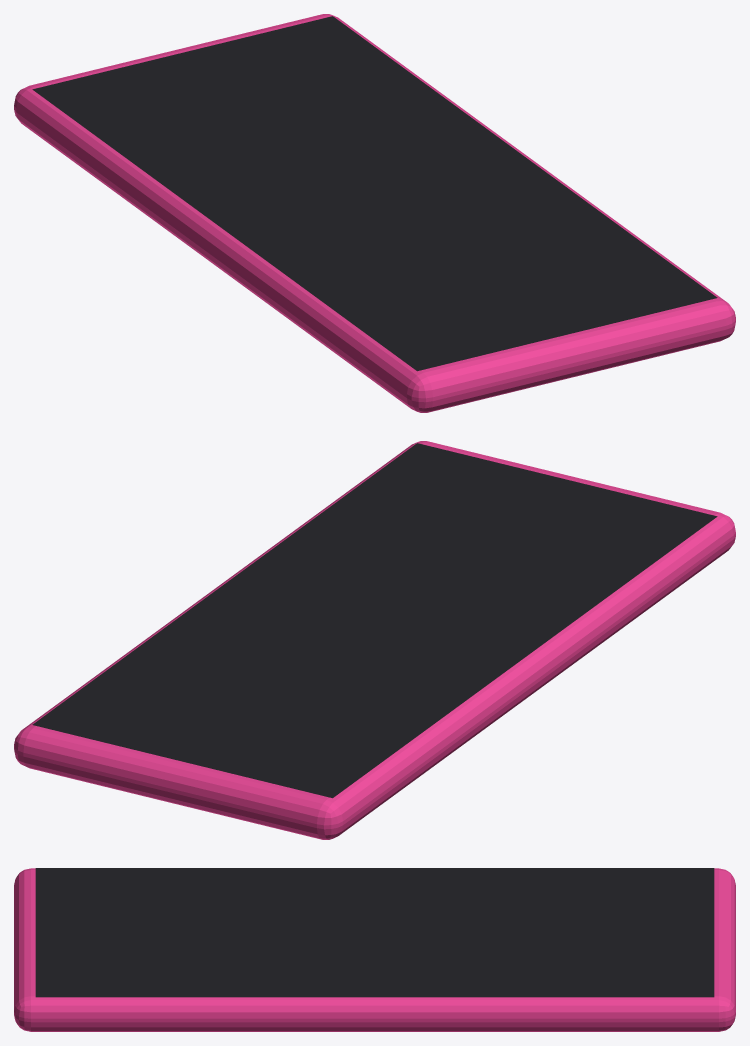
The model's file is motorola-moto-g-model-132-flagship-2022.glb.
The picture shows the model from 3 angles, top to bottom: view 1: azimuth 30°, elevation 25°; view 2: azimuth 150°, elevation 25°; view 3: azimuth 270°, elevation 25°; orthographic projection. The views are drawn at different scales.
Parts seen in each view (by area): view 1: Phone_Screen, Phone_Body; view 2: Phone_Screen, Phone_Body; view 3: Phone_Screen, Phone_Body.
Boxes of the visible parts, x1,y1,x2,y2 form: Phone_Screen: [32, 16, 717, 371]; Phone_Body: [14, 14, 735, 412]; Phone_Screen: [32, 443, 717, 798]; Phone_Body: [14, 441, 735, 839]; Phone_Screen: [35, 868, 714, 997]; Phone_Body: [14, 868, 735, 1031].
Size of the model in its own units: 0.0742 by 0.0085 by 0.1611.
